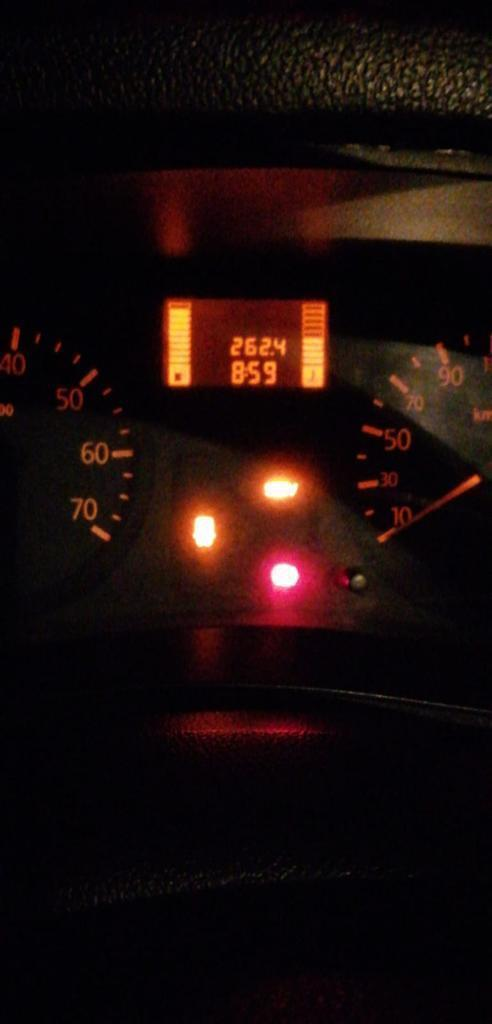,: (270, 349, 276, 357)
2: (229, 335, 242, 357), (259, 336, 270, 356)
4: (273, 336, 285, 356)
5: (247, 359, 261, 384)
6: (244, 335, 257, 355)
8: (230, 359, 244, 385)
9: (263, 360, 276, 385)
X: (244, 366, 247, 379)
odometer: (158, 289, 332, 391)
